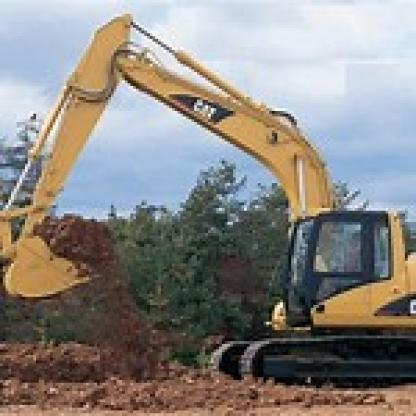excavator: (3, 3, 413, 394)
